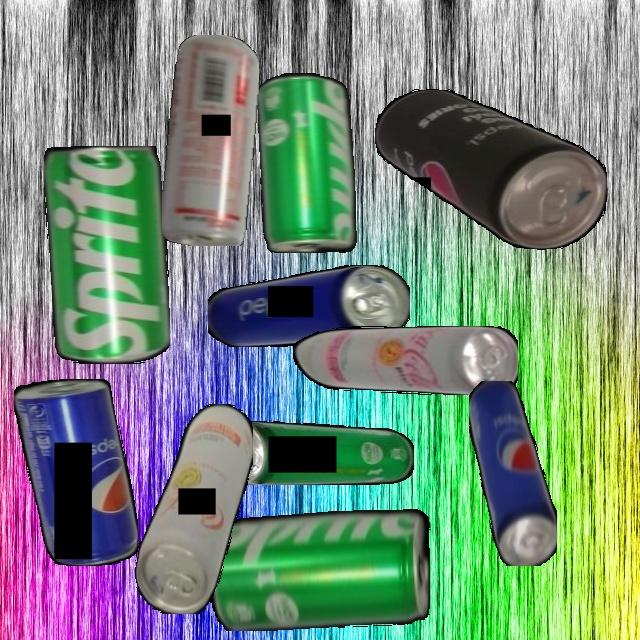debris: (374, 89, 607, 250), (43, 146, 170, 364), (208, 508, 430, 631), (134, 403, 253, 614), (13, 379, 138, 566), (161, 35, 259, 246), (257, 72, 357, 253), (207, 265, 410, 347), (468, 380, 557, 566), (292, 326, 518, 395), (213, 420, 414, 485)
